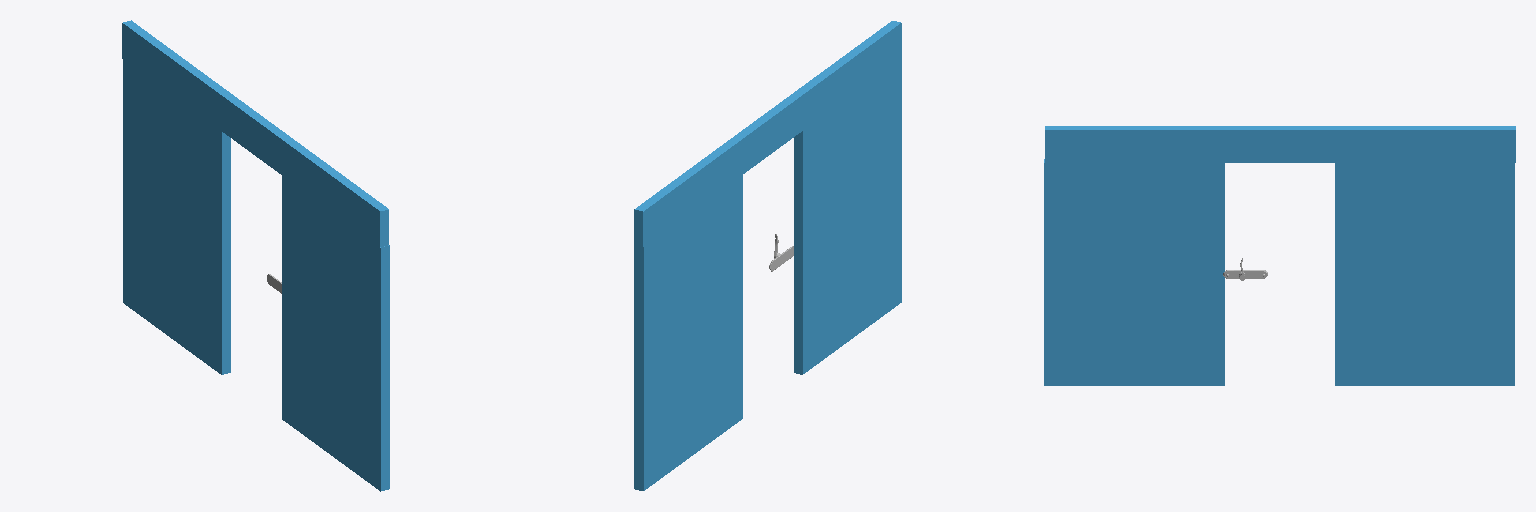
The robot description file, URDF, robot "door_test":
<robot name = 'door_test' xmlns:xacro="http://ros.org/wiki/xacro">
    <!-- <link name = 'world'/> -->
    
    <!-- <joint name = 'world2base' type = 'fixed'>
        <parent link = 'world'/>
        <child link = 'base_link'/>
    </joint> -->

    <link name = 'base_link'/>
        
    <joint name = 'base_joint' type = 'fixed'>
        <parent link = 'base_link'/>
        <origin xyz = '0 0.5 0.0' rpy='0 0 3.14159'/>
        <!-- if move y : the door will slide -->
        <child link = 'door_wall'/>
    </joint>

    <link name = 'door_wall'>
        <visual>
            <geometry>
                <box size='0.08 1.5 2.04'/>
            </geometry>
            <origin xyz = '0 -0.67 1.02' rpy = '0 0 0'/>
        </visual>
        <visual>
            <geometry>
                <box size='0.08 1.5 2.04'/>
            </geometry>
            <origin xyz = '0 1.74 1.02' rpy = '0 0 0'/>
        </visual>
        <visual>
            <geometry>
                <box size='0.08 3.91 0.3'/>
            </geometry>
            <origin xyz = '0 0.532 2.19' rpy = '0 0 0'/>
        </visual>

        <collision name="side_1_:hinge_side">
            <geometry>
                <box size='0.08 1.5 2.04'/>
            </geometry>
            <origin xyz = '0 -0.67 1.02' rpy = '0 0 0'/>
        </collision>
        <collision name="side_2">
            <geometry>
                <box size = '0.05029 0.06858 2.10820'/>
            </geometry>
            <origin xyz="-0.02 1.02 1.05" rpy="0 0 0"/>
        </collision>
        <collision>
            <geometry>
                <box size='0.08 1.5 2.04'/>
            </geometry>
            <origin xyz = '0 1.8 1.02' rpy = '0 0 0'/>
        </collision>
        <collision name="top">
            <geometry>
                <box size='0.08 3.91 0.3'/>
            </geometry>
            <origin xyz = '0 0.532 2.19' rpy = '0 0 0'/>
        </collision>
        <inertial>
            <origin xyz="0 0 0" rpy="0 0 0"/>
            <mass value="10000.0"/>
            <inertia ixx="0.0" ixy="0.0" ixz="0.0" iyy="0.0" iyz="0.0" izz="0.0"/>
        </inertial>
    </link>

    <joint name = 'door_hinge' type = 'revolute'>
        <axis xyz = '0 0 1' rpy = '0 0 0 '/>
        <origin xyz = '-0.07 0.06858 2.040'/>
        <limit lower = '0' upper = '1.57' effort='10000' velocity="100.00"/>
        <dynamics damping="25.0" friction="0.0"/>
        <parent link = 'door_wall'/>
        <child link = 'door'/>
    </joint>

    <link name = 'door'>
        <visual>
            <geometry>
                <mesh filename = './meshes/door.dae'/>
            </geometry>
            <origin xyz = '-0.05 0 0' rpy = '-1.57 0 1.57'/>
            <color rgba = '0.5 0.5 0.5 1.0'/>
        </visual>
        <collision name="door_collision">
            <geometry>
                <mesh filename = './meshes/door.dae'/>
            </geometry>
            <origin xyz = '-0.05 0 0' rpy = '-1.57 0 1.57'/>
        </collision>
        <inertial>
            <origin xyz="0.4569 0.0349 1.016" rpy="0 0 0"/>
            <mass value="41.3256"/>
            <inertia ixx="14.2053" ixy="0.0004" ixz="0.0000" iyy="17.1997" iyz="0.0000" izz="3.0298"/>
        </inertial>
    </link>

    <joint name = 'door_handle' type = 'revolute'>
        <axis xyz = '1 0 0' rpy = '0 0 0 '/>
        <parent link = 'door'/>
        <origin xyz = '0.035 0.75 -1.02'/>
        <limit lower = '0' upper = '0.5236' effort='100' velocity="1000.00"/>
        <dynamics damping="0.01" friction="0.0"/>
        <child link = 'door_handles'/>
    </joint>

    <link name = 'door_handles'>
        <visual>
            <geometry>
                <mesh filename = './meshes/with_plate.dae' scale='0.04 0.04 0.04'/>
            </geometry>
            <origin xyz = '0 0 0' rpy = '-1.57 3.141592 0'/>
            <color rgba = '0.55 0.5 0.5 1.0'/>
        </visual>
        <!-- <visual>
            <geometry>
                <mesh filename = './meshes/with_plate.dae' scale='0.04 0.04 0.04'/>
            </geometry>
            <origin xyz = '0.04 0 0' rpy = '0 0 -1.57'/>
             <color rgba = '0.5 0.5 0.5 1.0'/>
        </visual> -->
        <collision name="door_handles_collision">
            <geometry>
                <mesh filename="./meshes/with_plate_collision.dae" scale='0.04 0.04 0.04'/>
            </geometry>
            <origin xyz = '0 0 0' rpy = '-1.57 3.141592 0'/>
        </collision>
        <!-- <collision name="door_handles_collision">
            <geometry>
                <mesh filename="./meshes/with_plate_collision.dae" scale='0.04 0.04 0.04'/>
            </geometry>
            <origin xyz = '0.045 0 0' rpy = '0 0 -1.57'/>
        </collision> -->
        <inertial>
            <origin xyz="0.0 0.0 0.0" rpy="3.14159 0 1.57"/>
            <mass value="1.0"/>
            <!-- <inertia ixx="14.2053" ixy="0.0004" ixz="0.0000" iyy="17.1997" iyz="0.0000" izz="3.0298"/> -->
        </inertial>
    </link>
    
    <joint name = 'handle2latch' type = 'fixed'>
        <parent link = 'door_handles'/>
        <child link = 'door_latch'/>
    </joint>

    <link name='door_latch'>
        <collision>
            <geometry>
                <box size='0.001 0.14 0.01'/>
            </geometry>
            <origin xyz = '0.043 0.1 0' rpy = '0 0 0'/>
        </collision>
    </link>
    <!-- <gazebo reference="world">
        <material>Gazebo/Red</material>
    </gazebo> -->

</robot>

--- Render facts (derived) ---
3 views of the same robot in one strip: view 1: azimuth 30°, elevation 25°; view 2: azimuth 150°, elevation 25°; view 3: azimuth 270°, elevation 25° (orthographic).
Robot: door_test — 5 links, 4 joints (2 revolute, 2 fixed); root link base_link; default pose: every joint at zero.
Links seen in each view (by area): view 1: door_wall; view 2: door_wall; view 3: door_wall.
Boxes of the visible links, x1=… form: door_wall: x1=122, y1=20, x2=389, y2=491; door_wall: x1=634, y1=21, x2=901, y2=490; door_wall: x1=1044, y1=126, x2=1515, y2=385.
Size in the robot's own frame: 0.1567 by 3.91 by 2.34 metres.
1 mesh visuals loaded from 2 distinct referenced files (1 Collada DAE); not drawn: 1 (reference not matched to a file when rendering).